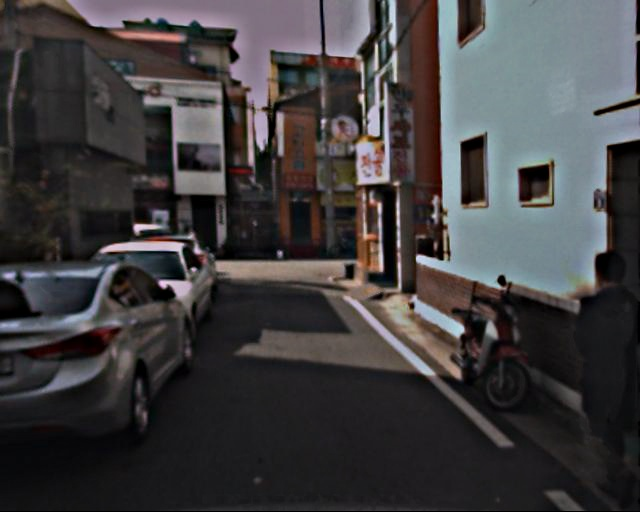person: (554, 251, 640, 495)
